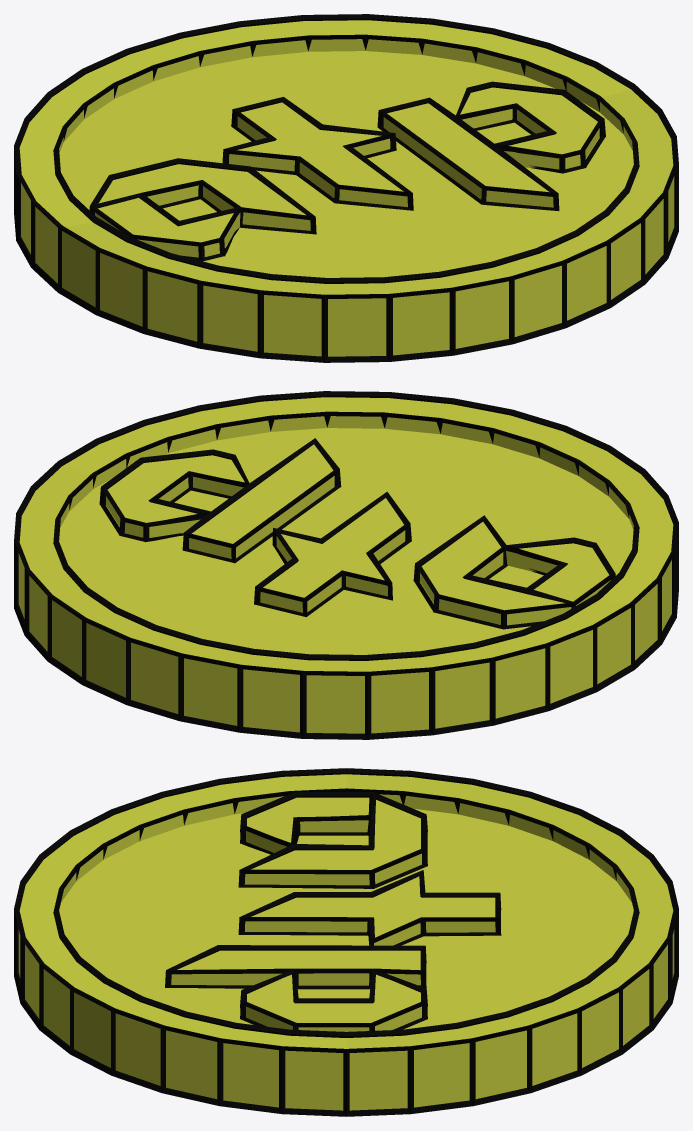
The model's file is ATP_2_2_wf_app.fbx.
3 views of the same model, one above another, from view 1: azimuth 30°, elevation 25°; view 2: azimuth 150°, elevation 25°; view 3: azimuth 270°, elevation 25° (orthographic).
Visible parts, largest first — view 1: Text_002; view 2: Text_002; view 3: Text_002.
Part boxes in pixels (left/top/right/bottom): Text_002: left=14, top=14, right=678, bottom=362; Text_002: left=14, top=391, right=678, bottom=739; Text_002: left=14, top=768, right=678, bottom=1116.
Size of the model in its own units: 2.03 by 0.2321 by 2.03.
